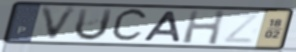A: (141, 10, 183, 43)
C: (108, 7, 151, 45)
H: (181, 9, 227, 47)
U: (72, 7, 116, 42)
V: (38, 5, 81, 43)
Z: (221, 12, 263, 45)
